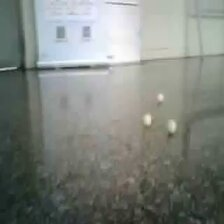w: (165, 119, 178, 136), (142, 112, 154, 126), (156, 93, 165, 102)
